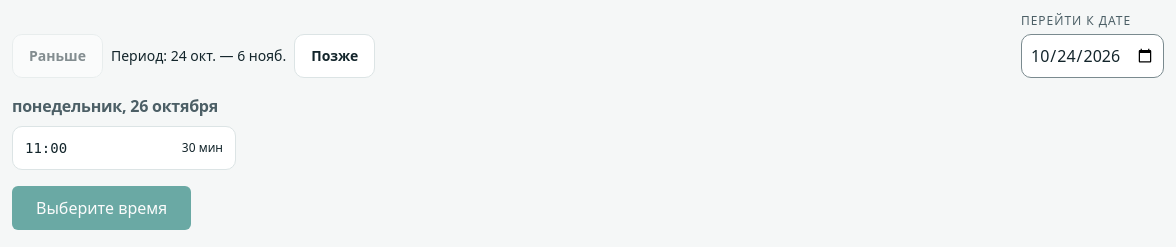
DoctorSlotsBooking › should name the chosen time on the button when a slot is chosen
The image size is (1176, 247).
Step 1. Click the button with test id "slot-slot-1" → coordinates (124, 148), box top-left (12, 126), bottom-right (236, 170)
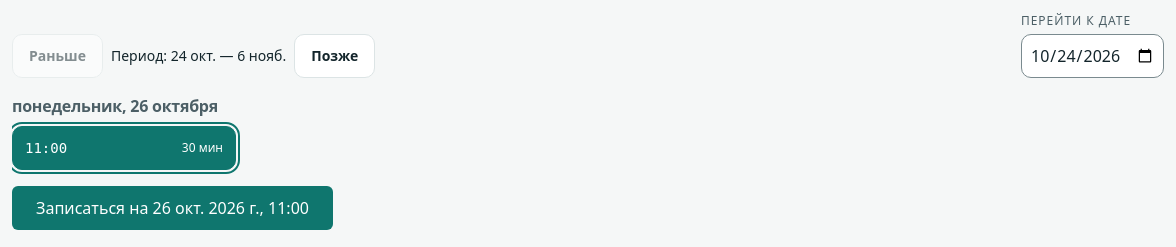
Now the button "Записаться на 26 окт. 2026 г., 11:00" is enabled, box top-left (12, 186), bottom-right (333, 230)
